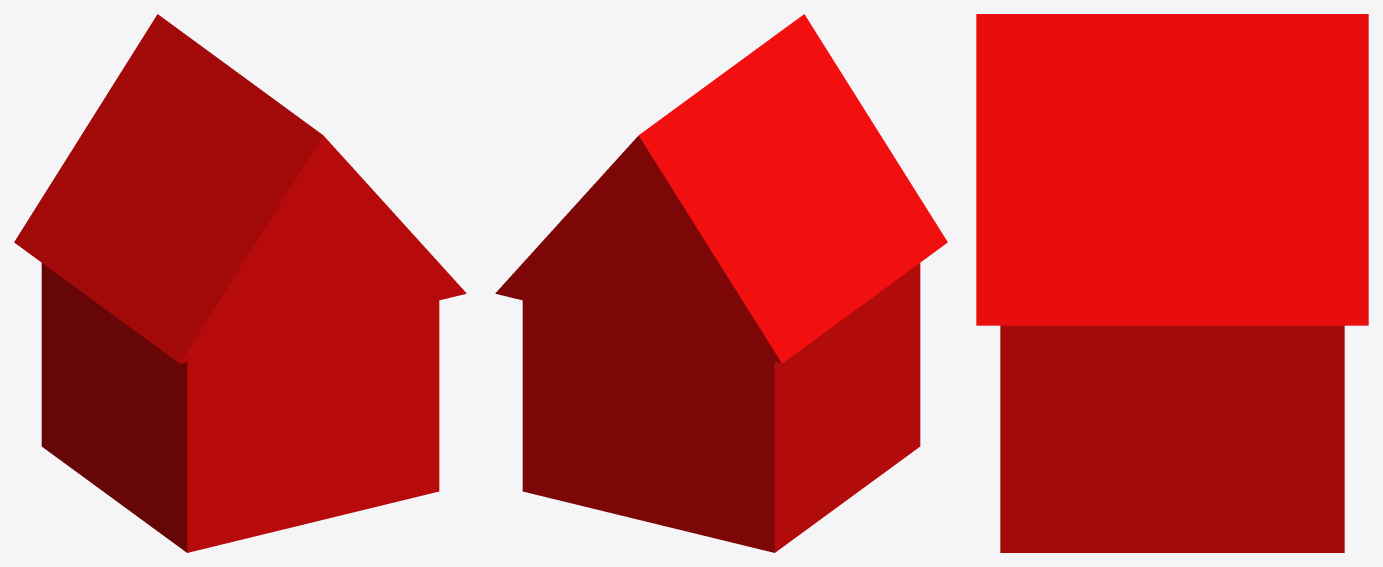
The model's file is House.fbx.
3 renders of one model, left to right at view 1: azimuth 30°, elevation 25°; view 2: azimuth 150°, elevation 25°; view 3: azimuth 270°, elevation 25°, orthographic. The views are drawn at different scales.
Visible parts, largest first — view 1: Cube.001, Cube; view 2: Cube.001, Cube; view 3: Cube.001, Cube.
Part boxes in pixels (left/top/right/bottom): Cube.001: left=14, top=14, right=466, bottom=363; Cube: left=41, top=263, right=439, bottom=552; Cube.001: left=495, top=14, right=947, bottom=363; Cube: left=522, top=263, right=920, bottom=552; Cube.001: left=976, top=14, right=1368, bottom=325; Cube: left=1000, top=325, right=1344, bottom=552.
Size of the model in its own units: 117 by 154 by 117.
